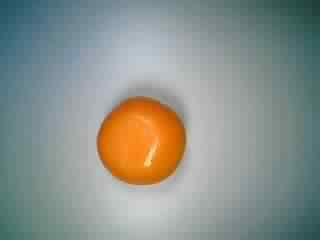orange: (93, 95, 188, 189)
